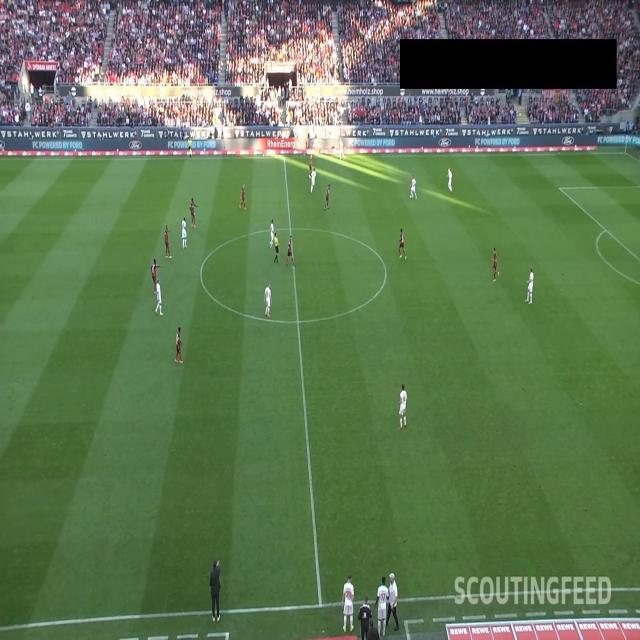ball: (409, 194, 412, 199)
